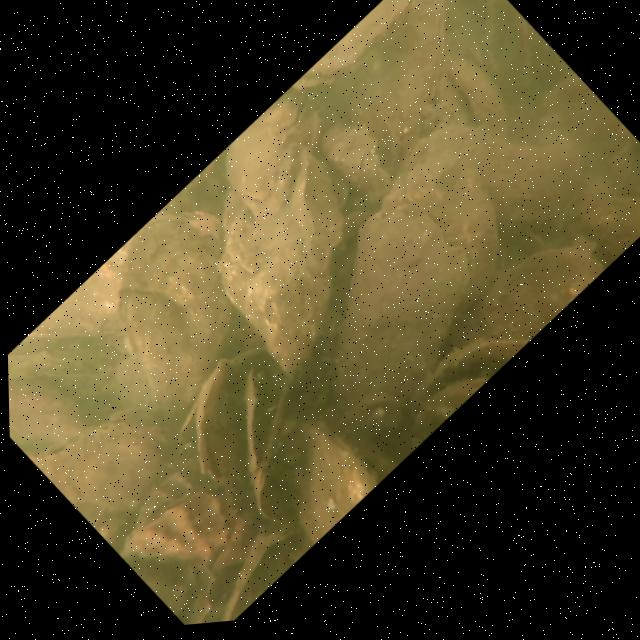Oyster-Closed: (145, 88, 408, 371), (60, 175, 298, 428), (304, 0, 521, 186), (27, 366, 197, 546), (244, 397, 388, 551), (112, 458, 258, 607)
Oyster-Indeterminate: (399, 55, 598, 270), (356, 125, 544, 330), (442, 212, 607, 379)
Oyster-Open: (250, 161, 534, 458), (149, 335, 306, 502), (383, 307, 529, 450), (417, 34, 530, 162), (307, 87, 421, 211)
